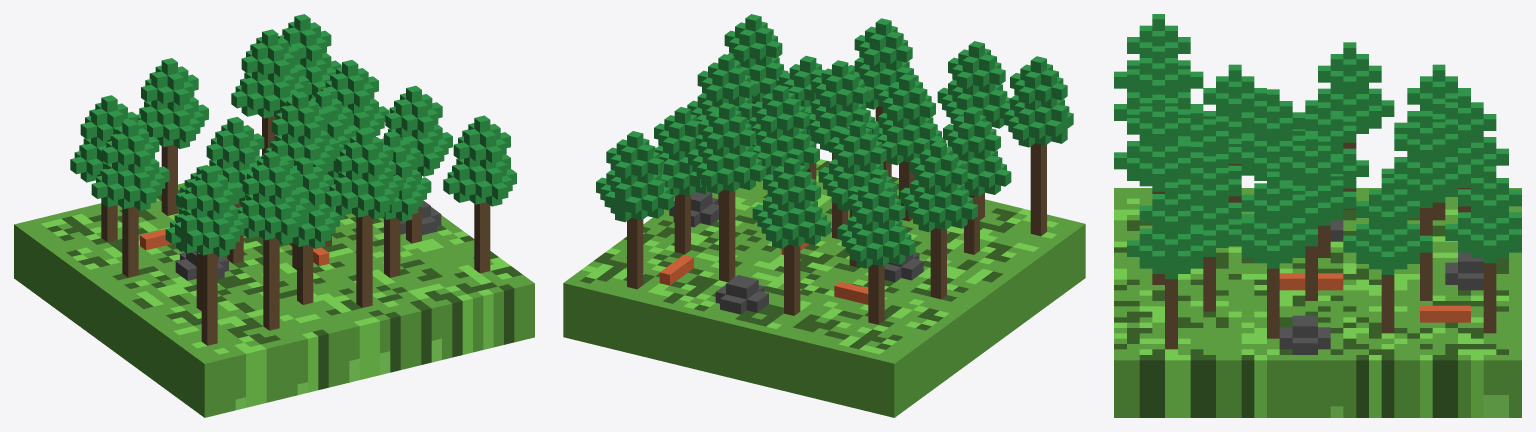
File: Plaines Map-10.obj
3 renders of one model, left to right at view 1: azimuth 30°, elevation 25°; view 2: azimuth 150°, elevation 25°; view 3: azimuth 270°, elevation 25°, orthographic. The views are drawn at different scales.
Size of the model in its own units: 3.2 by 2.1 by 3.2.
Materials: 1 (1 with a texture image).
